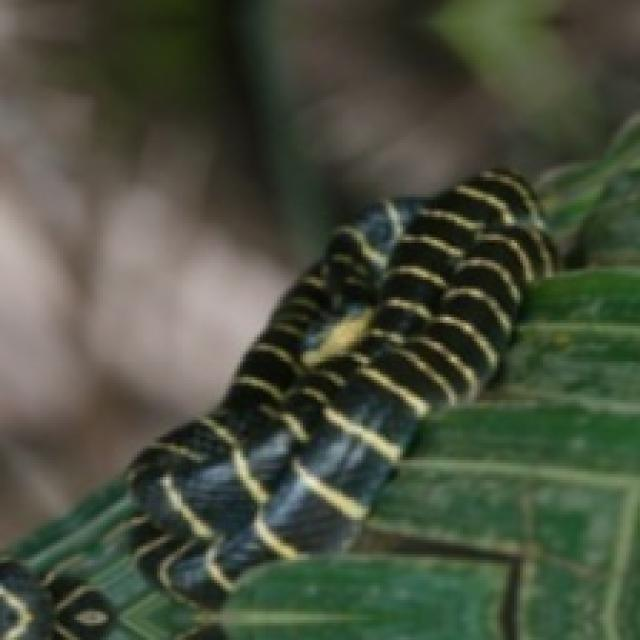mangrove cat snake: (0, 169, 554, 637)
